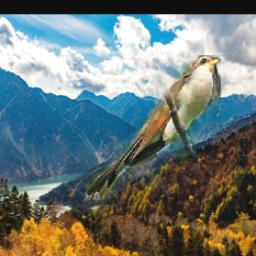Cuckoo: (87, 55, 222, 200)
